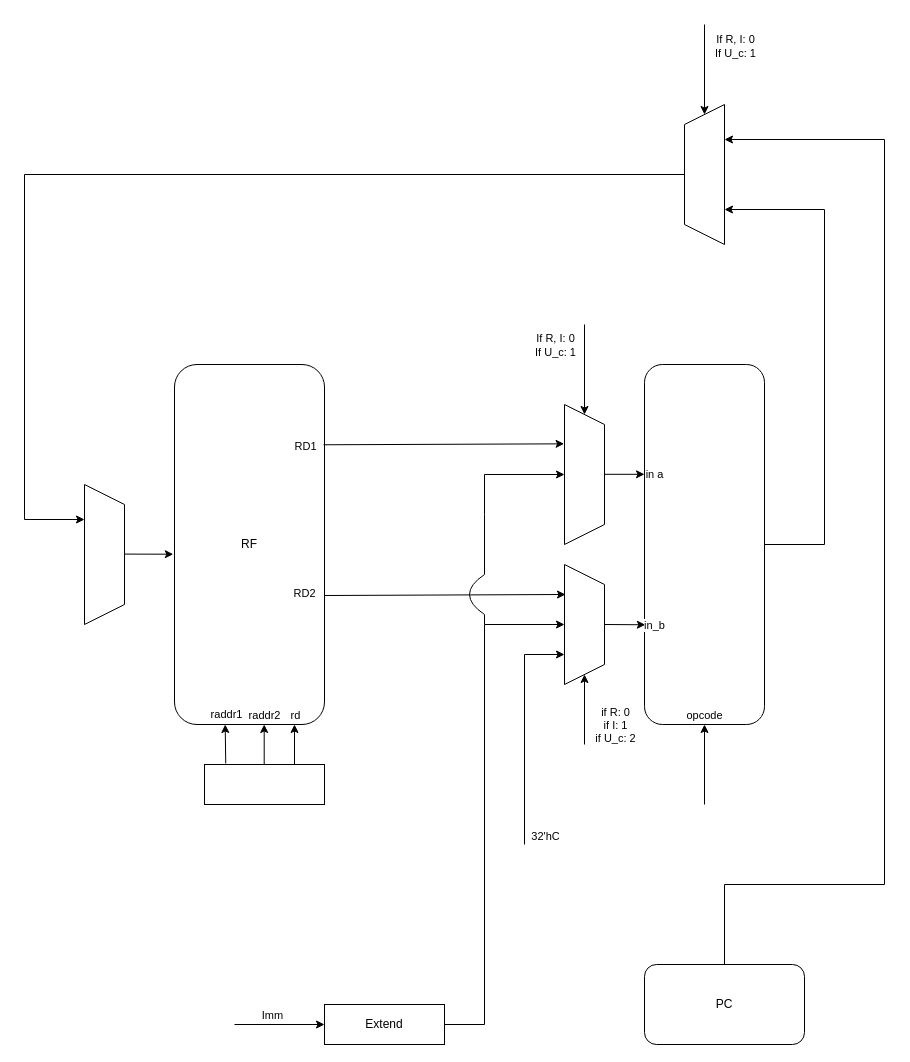
Some shapes in this 910 by 1062 pixel diagram are drawn without their labels. Here are the shapes that lost their labels. From the top down, the centre of each, then its label:
point 704,544: ALU
point 264,784: rs1 rs2 rd
